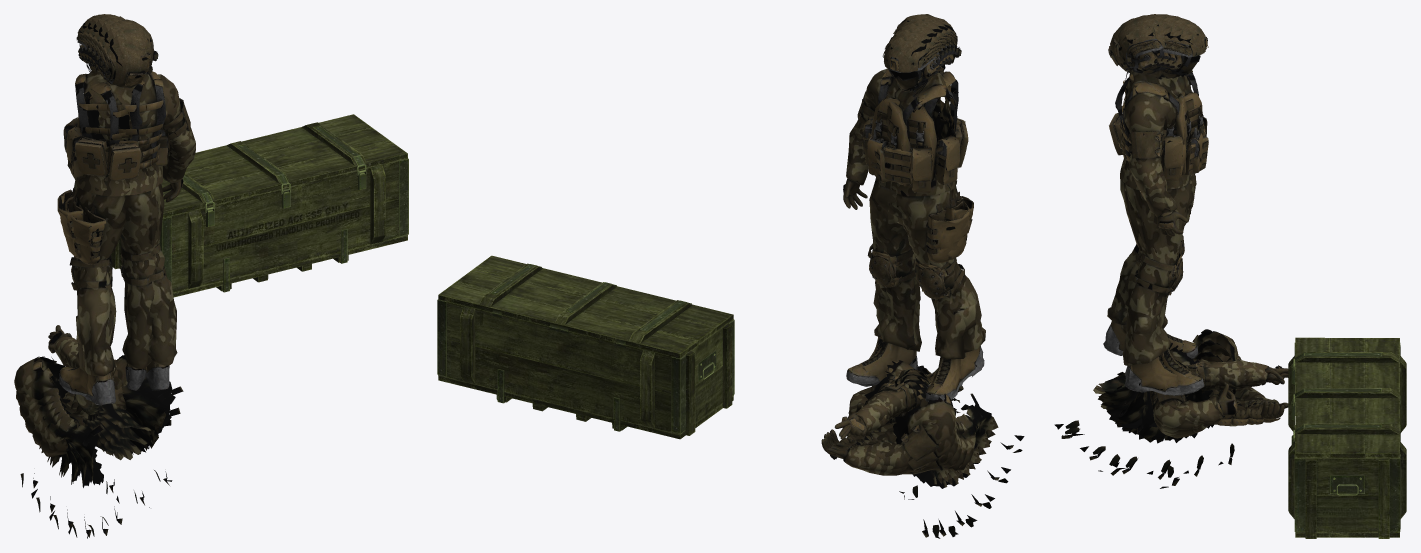
Rendered from crew_w.glb.
The picture shows the model from 3 angles, left to right: view 1: azimuth 30°, elevation 25°; view 2: azimuth 150°, elevation 25°; view 3: azimuth 270°, elevation 25°; orthographic projection. The views are drawn at different scales.
Parts seen in each view (by area): view 1: body|wooden_military_crate, turret1|material_1.001, turret|material_1, ca5|material_1, cs2|material_1.001, th5|material_1, ca0|material_1, ca4|material_1, ca3|material_1, ca2|material_1, ca1|material_1, th0|material_1 (+6 smaller); view 2: body|wooden_military_crate, turret1|material_1.001, turret|material_1, ca0|material_1, th0|material_1, ca1|material_1, ca5|material_1, cs2|material_1.001, ca4|material_1, ca3|material_1, ca2|material_1, cs0|material_1.001 (+2 smaller); view 3: body|wooden_military_crate, turret1|material_1.001, turret|material_1, ca5|material_1, ca0|material_1, cs0|material_1.001, cs2|material_1.001, cs1|material_1.001, th0|material_1, ca4|material_1, ca3|material_1, ca1|material_1 (+4 smaller).
Boxes of the visible parts, x1,y1,x2,y2 form: body|wooden_military_crate: (111, 114, 408, 297); turret1|material_1.001: (59, 19, 195, 400); turret|material_1: (57, 82, 170, 405); ca5|material_1: (40, 387, 153, 525); cs2|material_1.001: (52, 325, 183, 485); th5|material_1: (75, 29, 152, 100); ca0|material_1: (14, 356, 121, 498); ca4|material_1: (32, 394, 148, 536); ca3|material_1: (25, 392, 141, 538); ca2|material_1: (19, 385, 133, 534); ca1|material_1: (16, 365, 123, 520); th0|material_1: (75, 14, 144, 112); body|wooden_military_crate: (437, 255, 734, 439); turret1|material_1.001: (843, 14, 973, 401); turret|material_1: (846, 90, 985, 393); ca0|material_1: (824, 368, 956, 538); th0|material_1: (882, 35, 949, 109); ca1|material_1: (821, 370, 959, 536); ca5|material_1: (845, 385, 1024, 471); cs2|material_1.001: (834, 365, 968, 436); ca4|material_1: (844, 389, 1010, 483); ca3|material_1: (831, 381, 994, 508); ca2|material_1: (824, 375, 977, 527); cs0|material_1.001: (840, 360, 918, 499); body|wooden_military_crate: (1288, 337, 1406, 538); turret1|material_1.001: (1109, 18, 1205, 395); turret|material_1: (1103, 72, 1208, 393); ca5|material_1: (1054, 372, 1235, 438); ca0|material_1: (1167, 329, 1287, 465); cs0|material_1.001: (1137, 359, 1288, 488); cs2|material_1.001: (1064, 359, 1288, 438); cs1|material_1.001: (1098, 360, 1288, 475); th0|material_1: (1130, 18, 1208, 81); ca4|material_1: (1080, 383, 1259, 460); ca3|material_1: (1113, 384, 1274, 473); ca1|material_1: (1162, 340, 1288, 476).
Bounding box in the file's own units: 2.39 × 2.64 × 1.75.
Materials: 25 (18 with a texture image).
